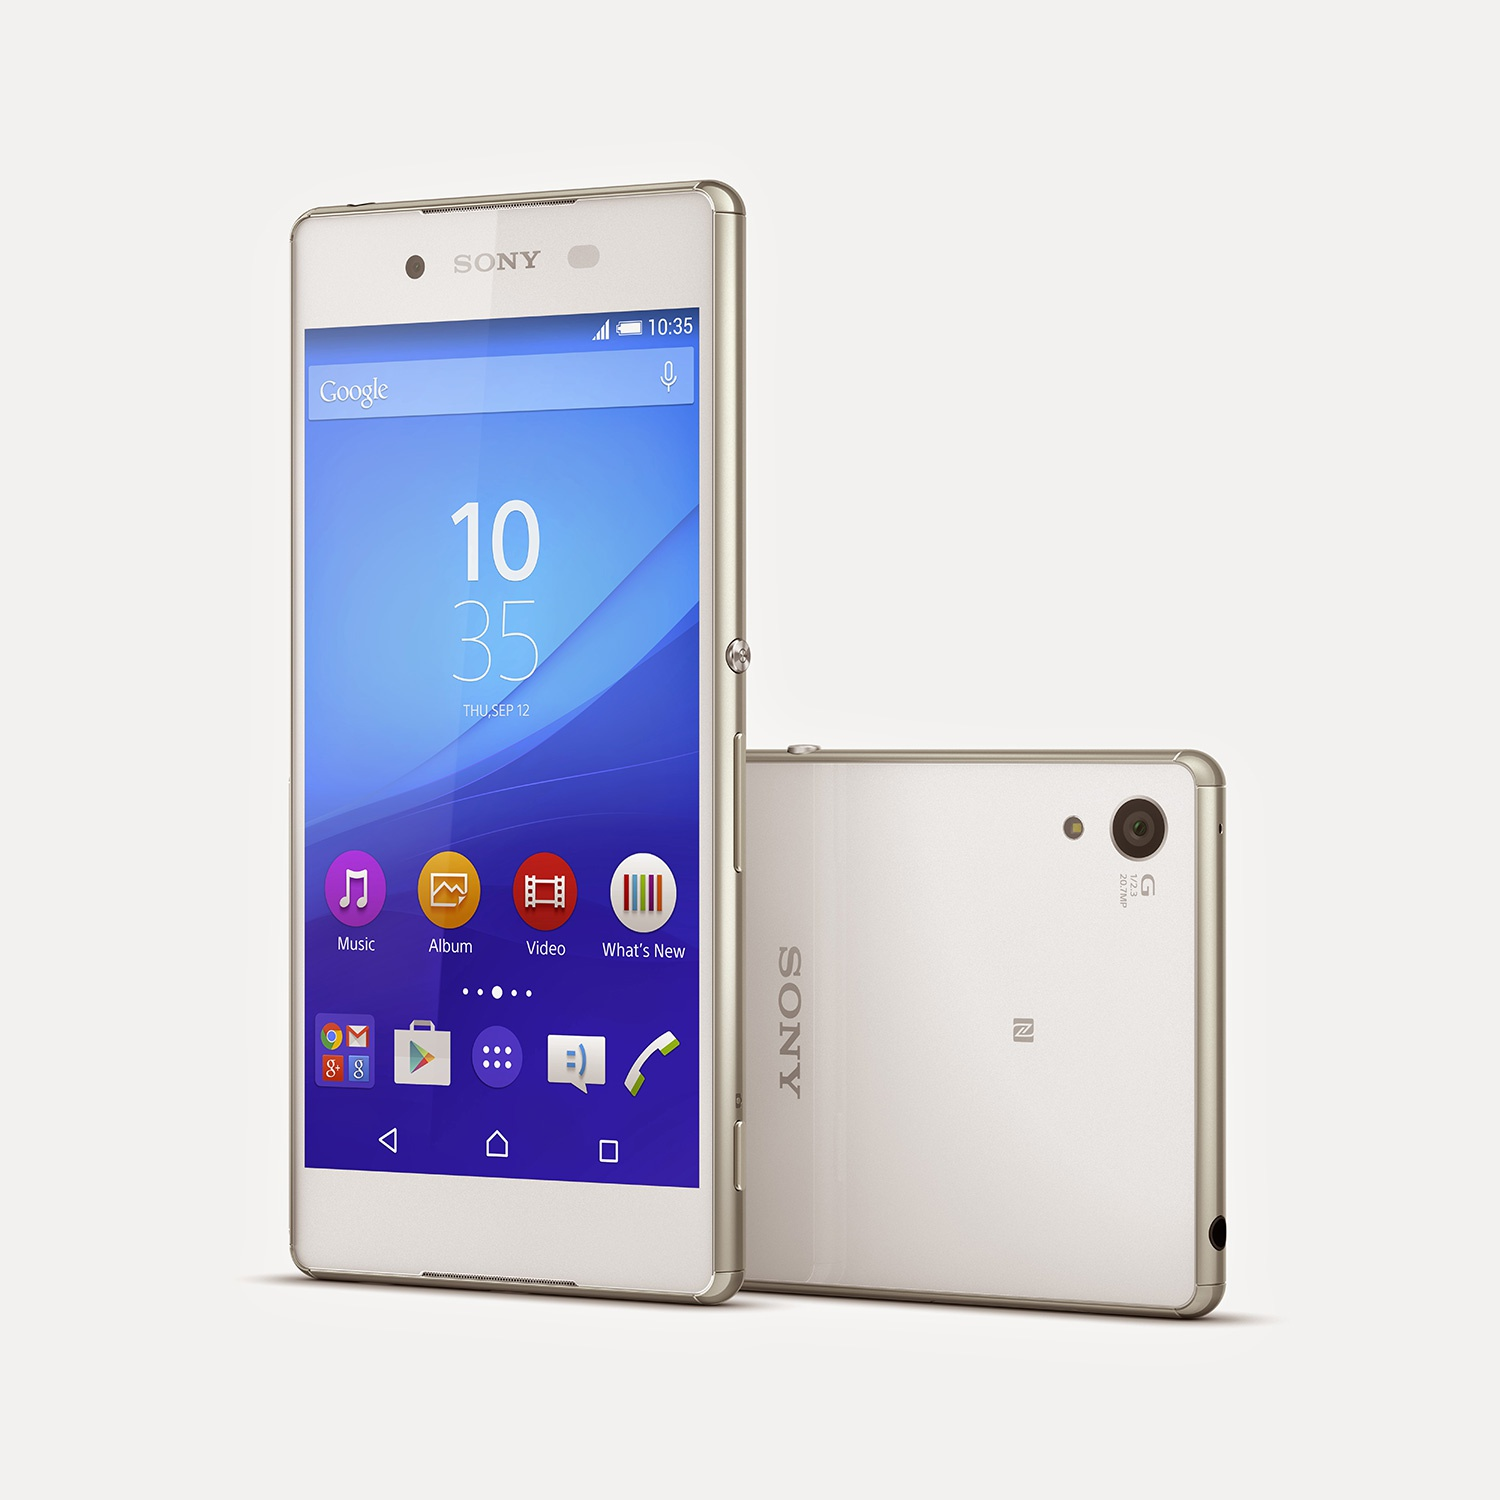smartphone: (288, 181, 751, 1306), (743, 745, 1227, 1320)
